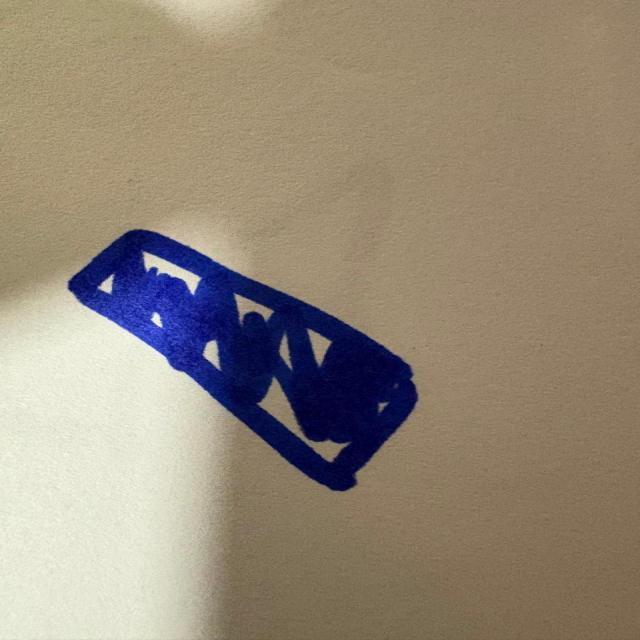Rectangle: (39, 208, 441, 512)
